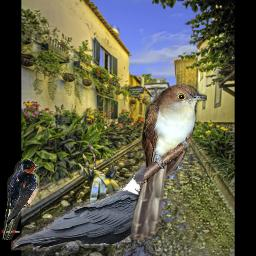Crow: (11, 160, 179, 251)
Cuckoo: (131, 83, 207, 240)
Swallow: (1, 158, 39, 240)
